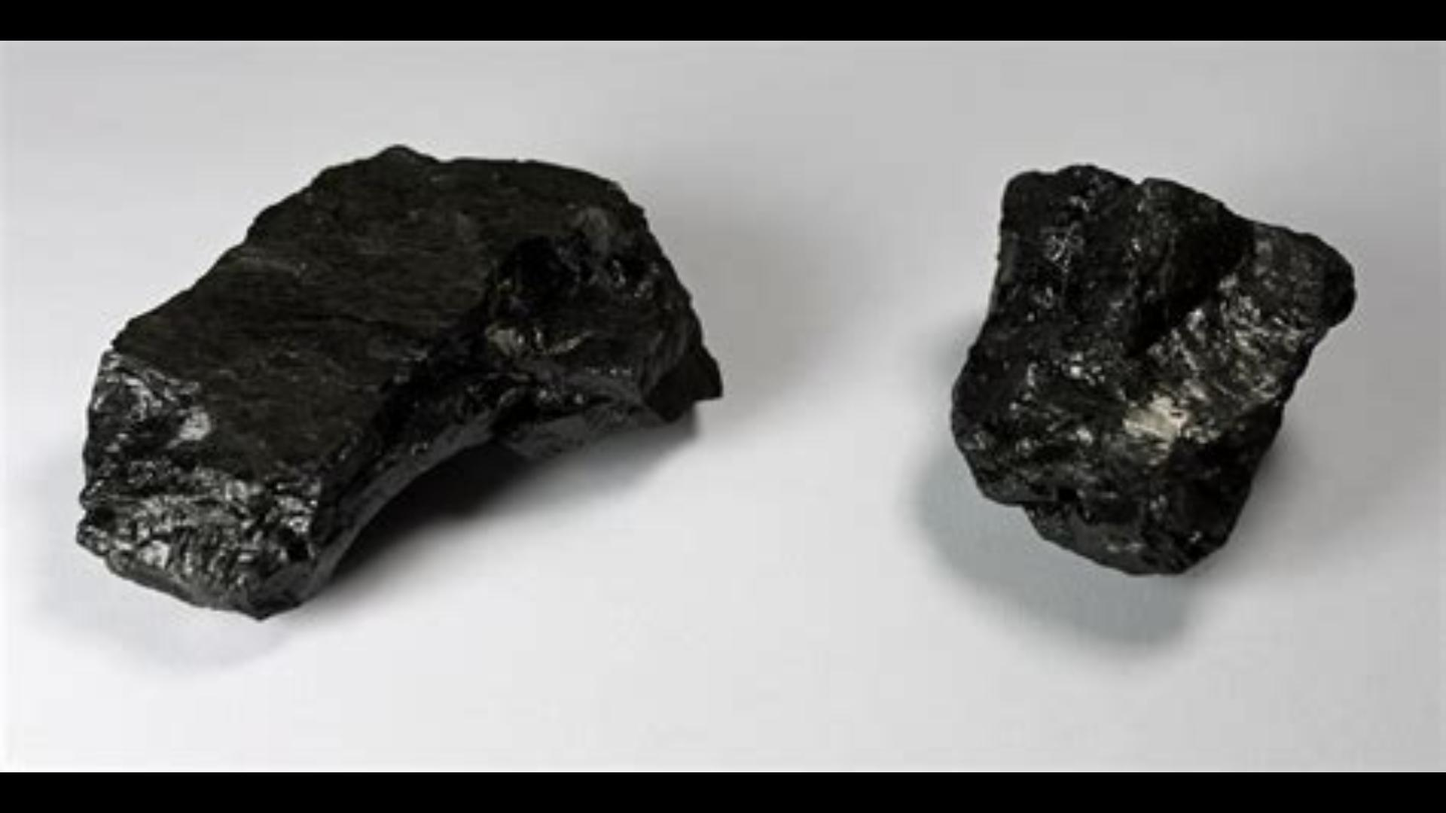rock: (0, 44, 1443, 763), (76, 147, 717, 614), (952, 166, 1348, 571)
